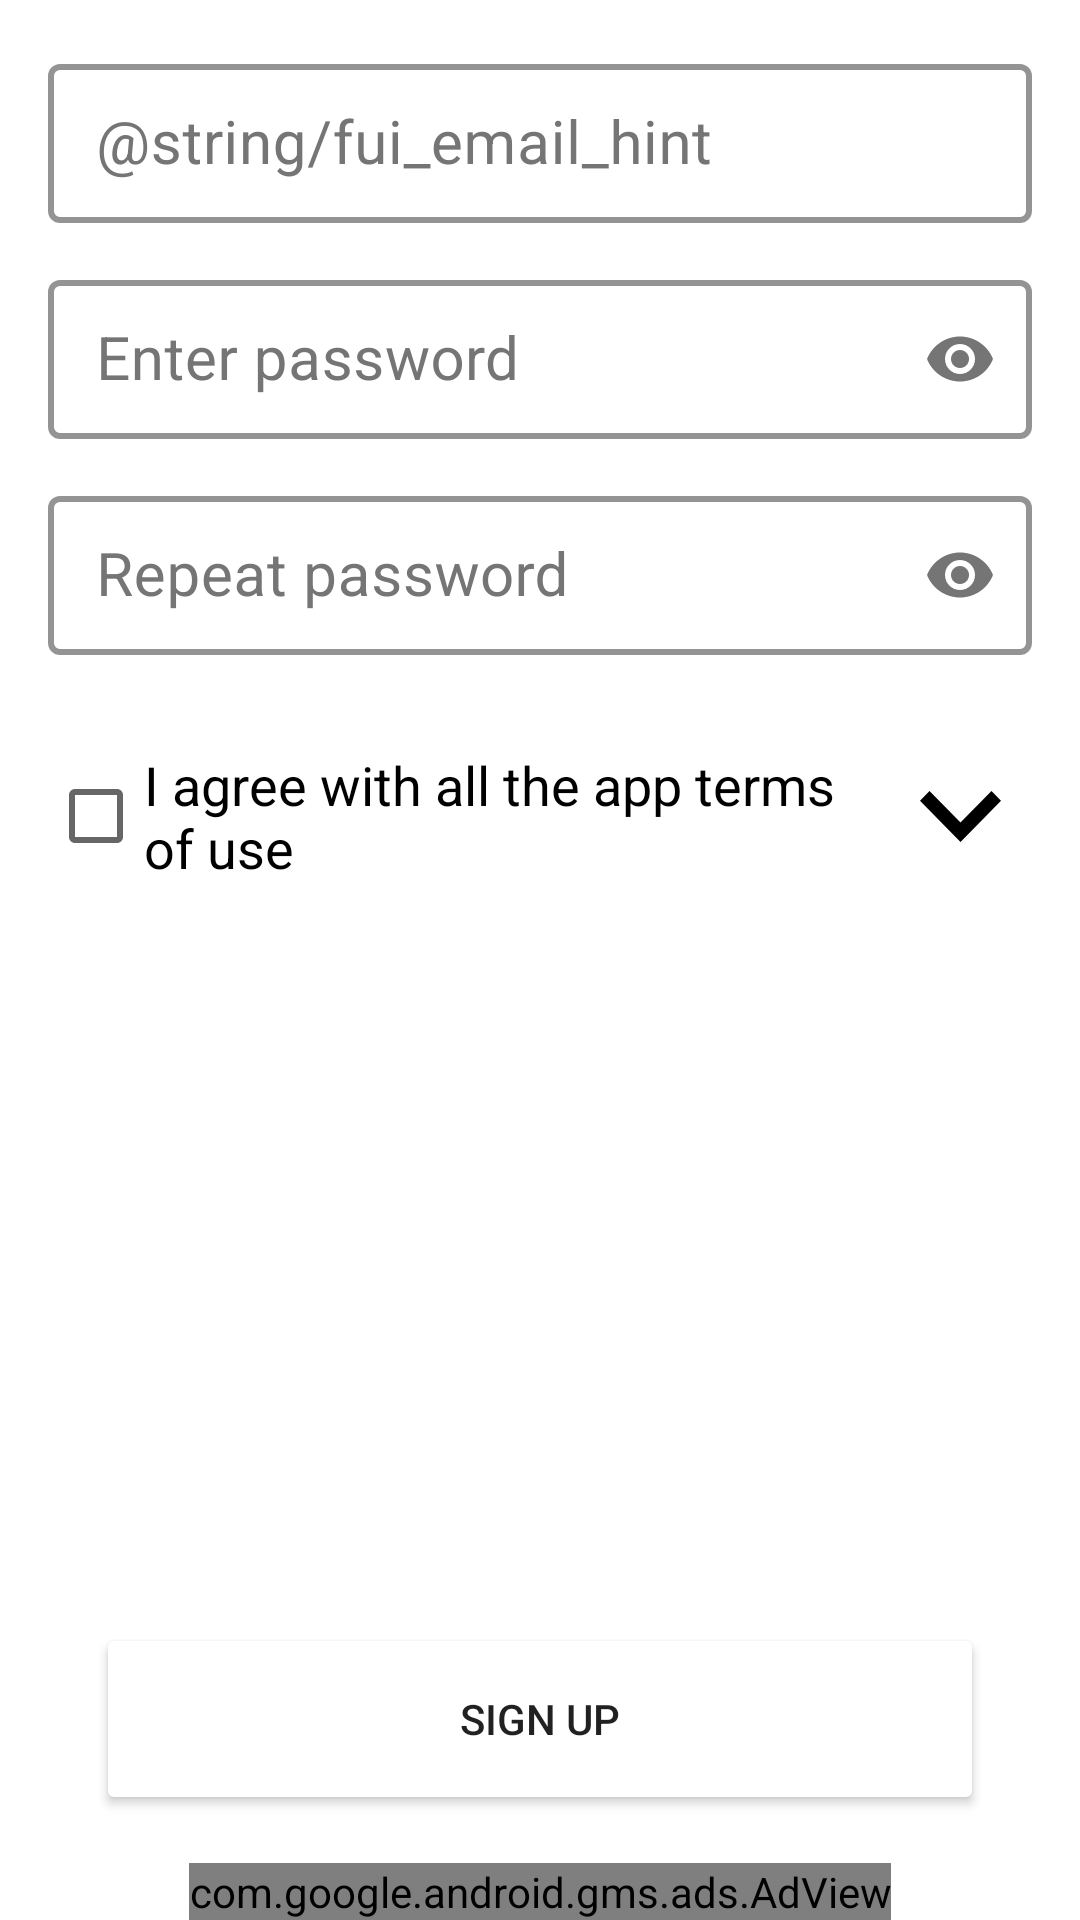

Icon bounding boxes for this 1080w x 1920h phone screenshot, format box(x1, y1, x2, y2):
expand: box(920, 791, 1001, 842)
